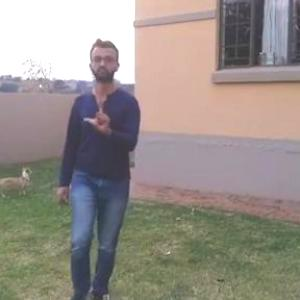land_hand: (81, 90, 116, 136)
